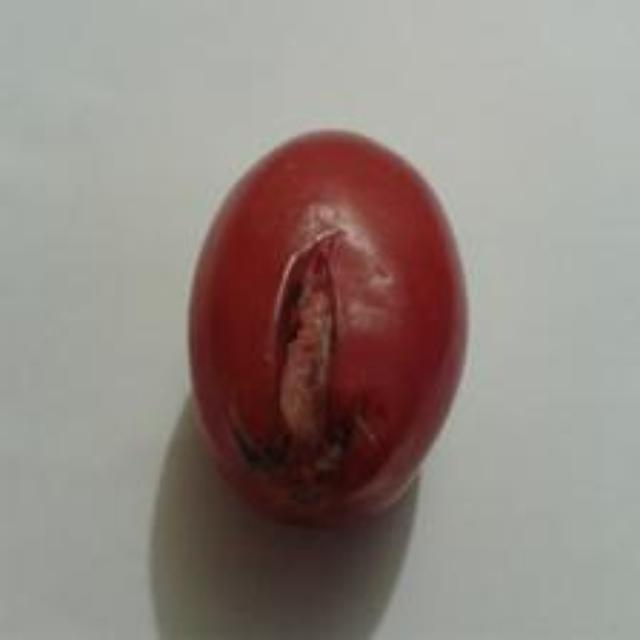defect: (180, 119, 476, 534)
